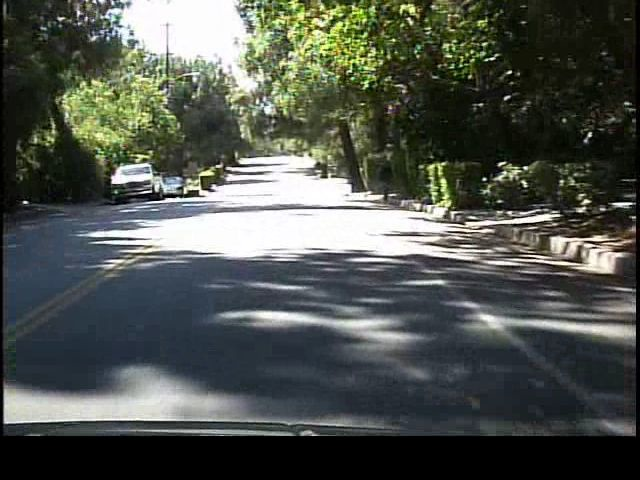person: (378, 155, 397, 209)
